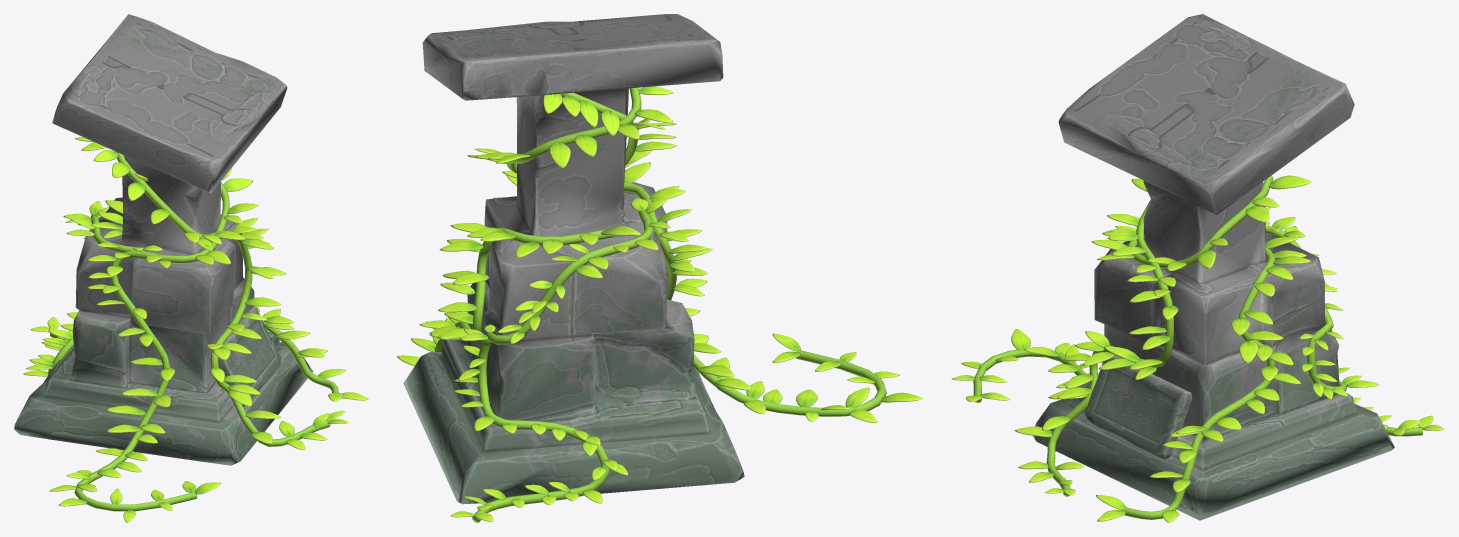
The model's file is pedestal.glb.
3 renders of one model, left to right at view 1: azimuth 30°, elevation 25°; view 2: azimuth 150°, elevation 25°; view 3: azimuth 270°, elevation 25°, orthographic. The views are drawn at different scales.
Visible parts, largest first — view 1: polySurface7, pasted__pCube221, pasted__pCube222, pasted__pCylinder5, polySurface8, pasted__pCylinder4, polySurface6, pasted__pCube223, pasted__pCylinder3, pasted__pCylinder2; view 2: polySurface7, pasted__pCube221, polySurface6, pasted__pCylinder5, pasted__pCube223, pasted__pCylinder2, pasted__pCube222, pasted__pCylinder3; view 3: polySurface7, polySurface8, pasted__pCube222, pasted__pCube223, pasted__pCube221, polySurface6, pasted__pCylinder3, pasted__pCylinder4, pasted__pCylinder5, pasted__pCylinder2.
Boxes of the visible parts, x1,y1,x2,y2 form: polySurface7: (14,14,313,465); pasted__pCube221: (49,136,258,522); pasted__pCube222: (93,150,348,449); pasted__pCylinder5: (74,181,229,511); polySurface8: (210,306,281,406); pasted__pCylinder4: (116,151,330,446); polySurface6: (23,201,162,376); pasted__pCube223: (91,200,368,401); pasted__pCylinder3: (121,230,338,392); pasted__pCylinder2: (48,214,146,375); polySurface7: (403,14,744,504); pasted__pCube221: (467,86,922,422); polySurface6: (451,198,670,521); pasted__pCylinder5: (506,87,886,416); pasted__pCube223: (397,223,641,366); pasted__pCylinder2: (472,209,653,522); pasted__pCube222: (493,94,676,198); pasted__pCylinder3: (434,227,613,351); polySurface7: (1032,14,1394,520); polySurface8: (1085,355,1192,460); pasted__pCube222: (1014,178,1178,495); pasted__pCube223: (1096,222,1310,522); pasted__pCube221: (952,175,1310,401); polySurface6: (1266,207,1444,435); pasted__pCylinder3: (1122,247,1275,519); pasted__pCylinder4: (1046,200,1173,496); pasted__pCylinder5: (973,175,1272,403); pasted__pCylinder2: (1265,225,1422,436).
Bounding box in the file's own units: 0.0387 × 0.0351 × 0.042.
Materials: 1 (1 with a texture image).
